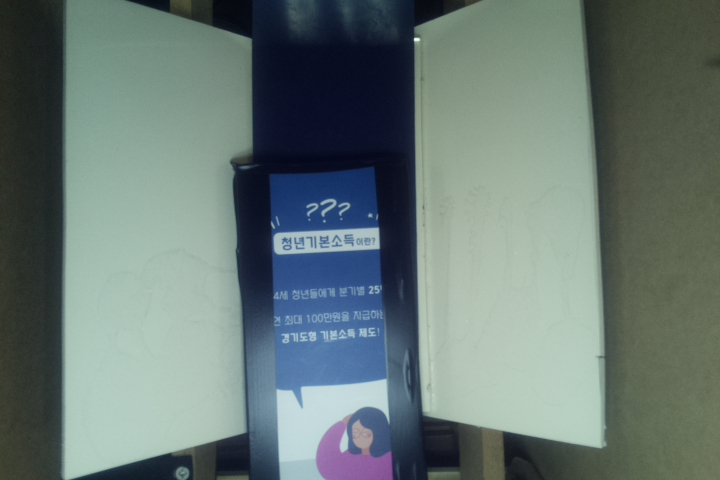book: (232, 156, 428, 480)
